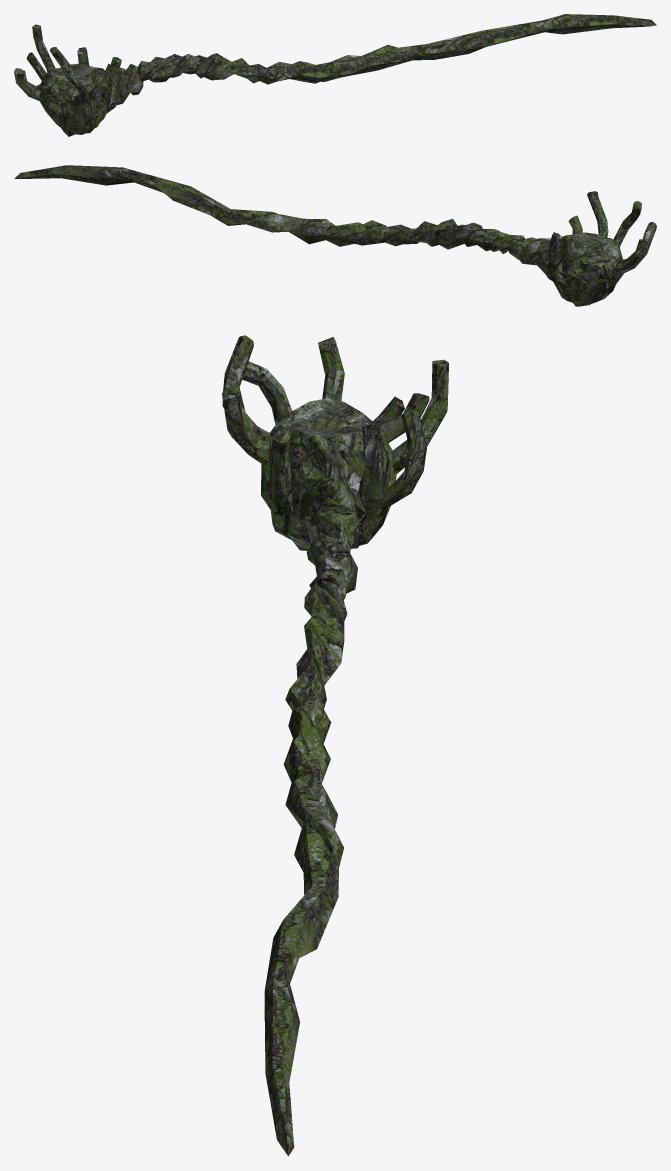
The model's file is ITMW_STAFF_DRUID_03.glb.
3 views of the same model, one above another, from view 1: azimuth 30°, elevation 25°; view 2: azimuth 150°, elevation 25°; view 3: azimuth 270°, elevation 25° (orthographic). The views are drawn at different scales.
Visible parts, largest first — view 1: ITMW_STAFF_DRUID_03; view 2: ITMW_STAFF_DRUID_03; view 3: ITMW_STAFF_DRUID_03.
Boxes of the visible parts, box(x1,y1,x2,y2) form: ITMW_STAFF_DRUID_03: box(14, 14, 656, 136); ITMW_STAFF_DRUID_03: box(14, 165, 656, 306); ITMW_STAFF_DRUID_03: box(222, 335, 448, 1156).
Size of the model in its own units: 1.98 by 0.3496 by 0.3081.
Materials: 2 (2 with a texture image).
